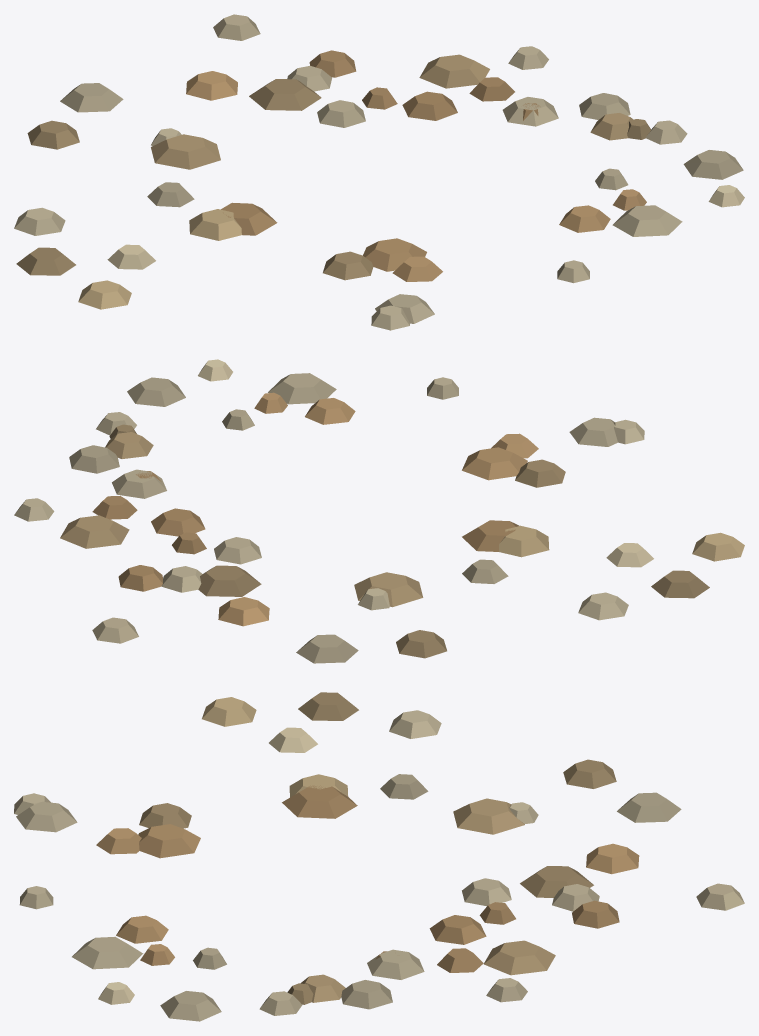
Rendered from dam_survey_gate_blue_detail2.glb.
The picture shows the model from 3 angles, top to bottom: view 1: azimuth 30°, elevation 25°; view 2: azimuth 150°, elevation 25°; view 3: azimuth 270°, elevation 25°; orthographic projection. The views are drawn at different scales.
Parts seen in each view (by area): view 1: dam_survey_gate_blue_detail2; view 2: dam_survey_gate_blue_detail2; view 3: dam_survey_gate_blue_detail2.
Boxes of the visible parts, left/top/right/bottom form: dam_survey_gate_blue_detail2: left=14, top=14, right=744, bottom=330; dam_survey_gate_blue_detail2: left=14, top=359, right=744, bottom=663; dam_survey_gate_blue_detail2: left=14, top=692, right=744, bottom=1021.
Bounding box in the file's own units: 6.42 × 0.1 × 6.13.
